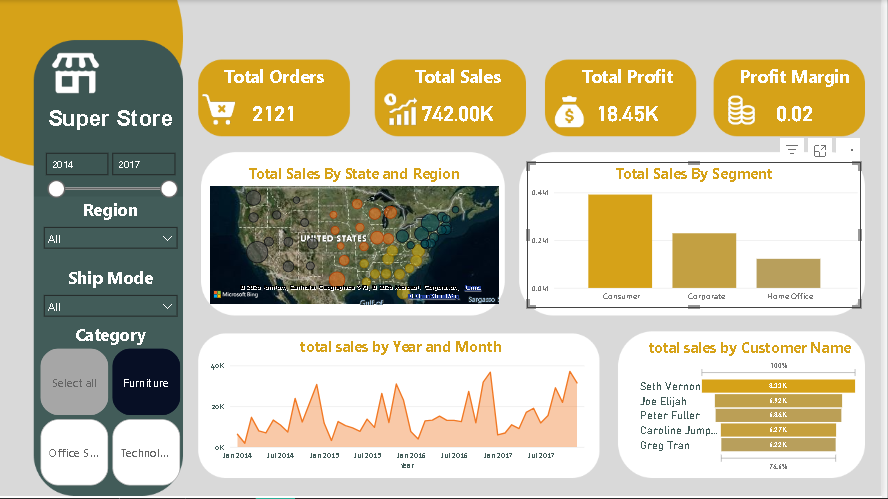

The page's visual inventory and layout, read from the dashboard file:
{"tool":"powerbi","page":{"name":"sales","canvas":[1280,720],"ordinal":0},"visuals":[{"type":"areaChart","fields":{"Category":["Orders.Order Date.Variation.Date Hierarchy.Year","Orders.Order Date.Variation.Date Hierarchy.Month"],"Y":["ALL Measures.total sales"]},"box":[303.6,484.3,561,201],"z":0},{"type":"clusteredColumnChart","title":"Total Sales By Segment","fields":{"Category":["Orders.Segment"],"Y":["ALL Measures.total sales"]},"box":[766.3,234.2,482.9,211.1],"z":1000},{"type":"map","title":"Total Sales By State and Region","fields":{"Size":["ALL Measures.total sales"],"Category":["Orders.State"],"Series":["Orders.Region"]},"box":[303.6,234.2,426.5,211.1],"z":2000},{"type":"card","title":"Total Sales","fields":{"Values":["ALL Measures.total sales"]},"box":[565.3,92.5,201,104.1],"z":3000},{"type":"card","title":"Total Profit","fields":{"Values":["ALL Measures.totla profit"]},"box":[819.8,92.5,183.6,104.1],"z":4000},{"type":"card","title":"Profit Margin","fields":{"Values":["ALL Measures.profit margin"]},"box":[1045.3,92.5,215.4,104.1],"z":5000},{"type":"funnel","fields":{"Category":["Orders.Customer Name"],"Y":["ALL Measures.total sales"]},"box":[925.3,485.8,325.3,199.5],"z":6000},{"type":"card","title":"Total Orders","fields":{"Values":["ALL Measures.total orders"]},"box":[303.6,92.5,193.7,104.1],"z":8000},{"type":"advancedSlicerVisual","title":"Category","fields":{"Values":["Orders.Category"]},"box":[57.8,467,212.5,240],"z":9000},{"type":"slicer","title":"Region","fields":{"Values":["Orders.Region"]},"box":[57.8,286.3,212.5,73.7],"z":10000},{"type":"slicer","title":"Ship Mode","fields":{"Values":["Orders.Ship Mode"]},"box":[57.8,384.6,212.5,82.4],"z":11000},{"type":"textbox","box":[57.8,147.5,212.5,63.6],"z":11001},{"type":"slicer","fields":{"Values":["Orders.Order Date.Variation.Date Hierarchy.Year"]},"box":[57.8,211.1,212.5,75.2],"z":11002}]}

Visuals, with their boxes in screenshot pixels (x1, y1, x2, y2), scaled from the page's 1280x720 canvas onto the 888x499 screenshot:
areaChart - Orders.Order Date.Variation.Date Hierarchy.Year x Orders.Order Date.Variation.Date Hierarchy.Month: (left=211, top=336, right=600, bottom=475)
"Total Sales By Segment" clusteredColumnChart: (left=532, top=162, right=867, bottom=309)
"Total Sales By State and Region" map: (left=211, top=162, right=507, bottom=309)
"Total Sales" card: (left=392, top=64, right=532, bottom=136)
"Total Profit" card: (left=569, top=64, right=696, bottom=136)
"Profit Margin" card: (left=725, top=64, right=875, bottom=136)
funnel - Orders.Customer Name x ALL Measures.total sales: (left=642, top=337, right=868, bottom=475)
"Total Orders" card: (left=211, top=64, right=345, bottom=136)
"Category" advancedSlicerVisual: (left=40, top=324, right=188, bottom=490)
"Region" slicer: (left=40, top=198, right=188, bottom=250)
"Ship Mode" slicer: (left=40, top=267, right=188, bottom=324)
textbox: (left=40, top=102, right=188, bottom=146)
slicer - Orders.Order Date.Variation.Date Hierarchy.Year: (left=40, top=146, right=188, bottom=198)
